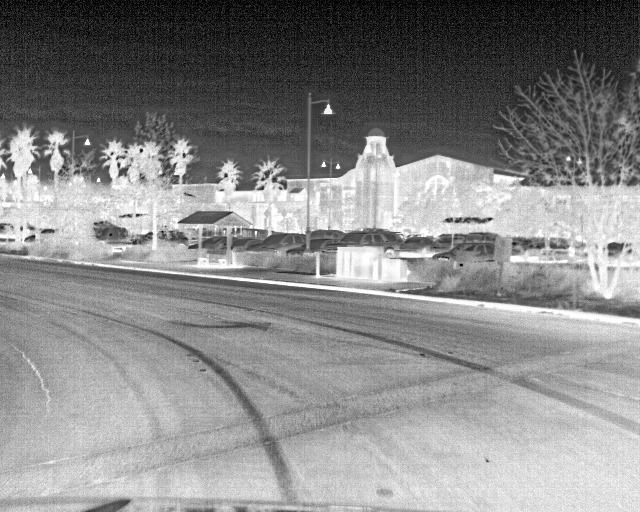car: (320, 226, 403, 258), (434, 241, 496, 260), (256, 229, 304, 250), (400, 232, 438, 258), (94, 226, 129, 253), (202, 235, 228, 261), (605, 240, 631, 264), (228, 234, 260, 251), (310, 235, 340, 253)
